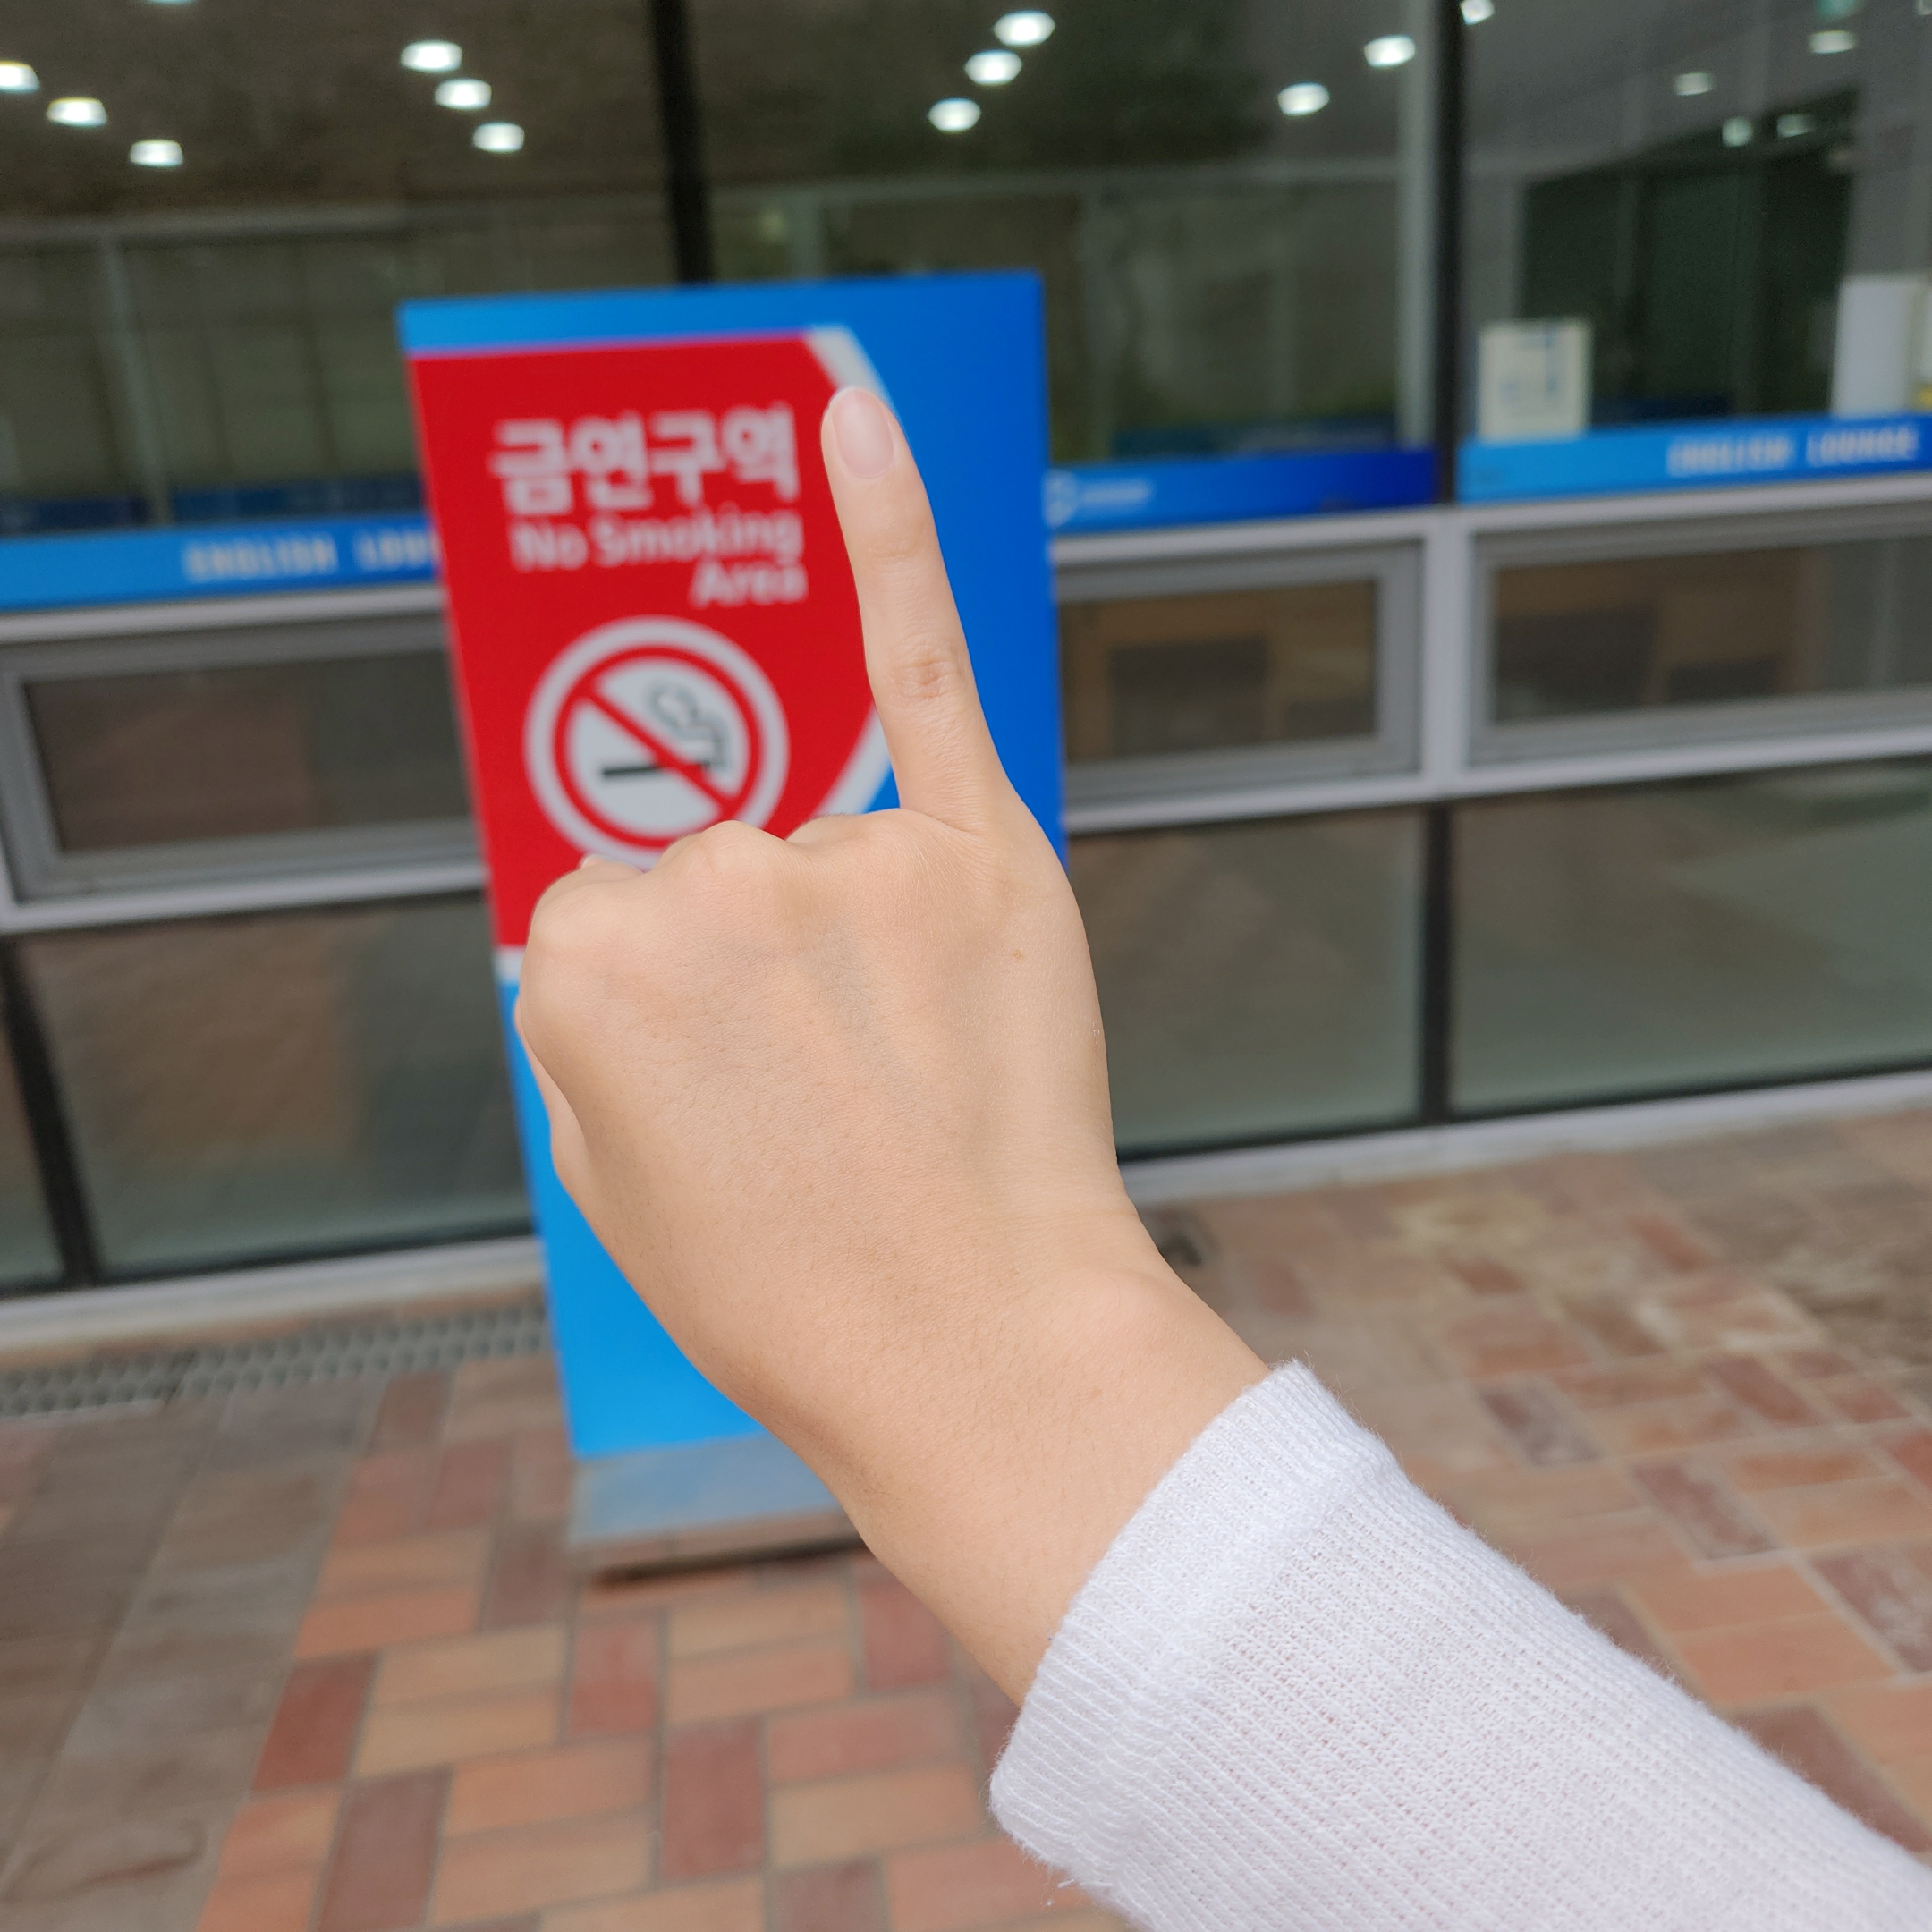fine: (508, 380, 1115, 1375)
